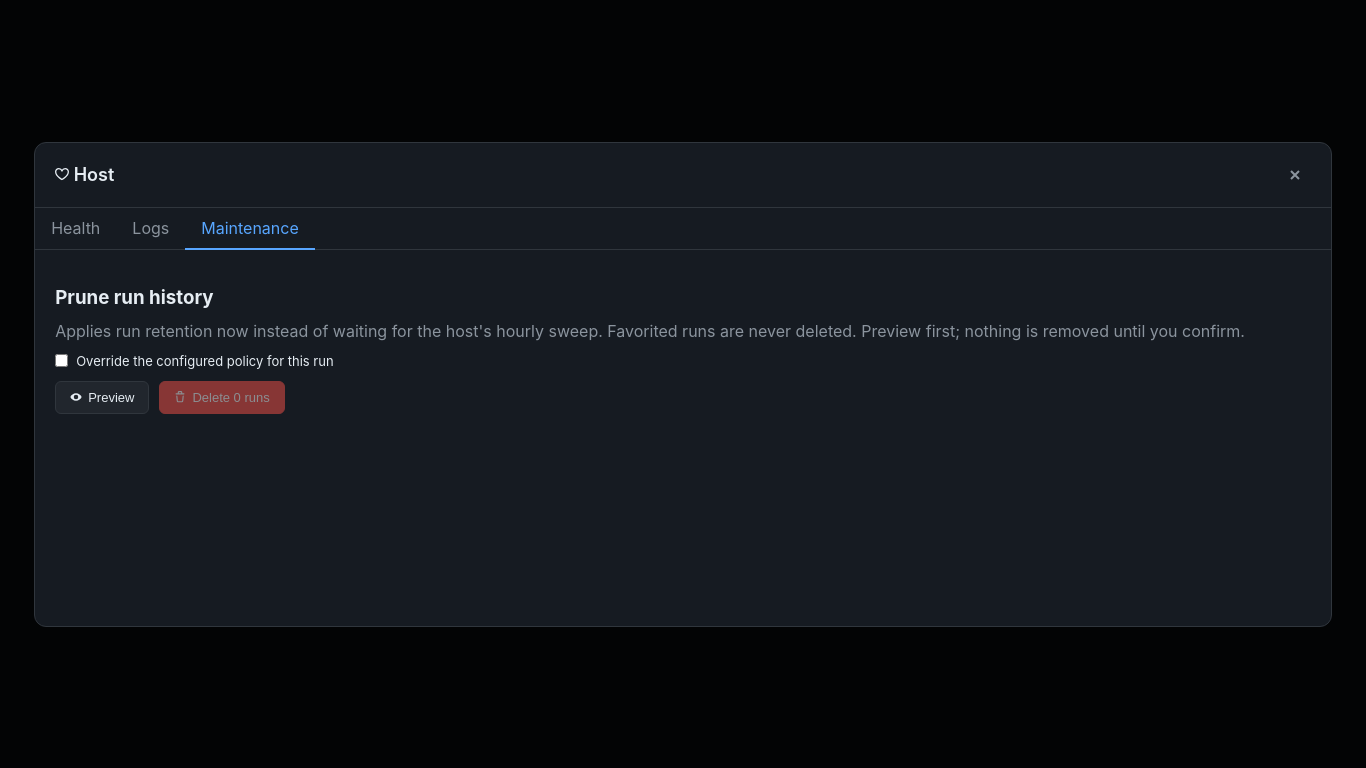
Test: HostModal › maintenance: overrides are sent when enabled and validated
Click the checkbox labelled "Override the configured policy for this run" at (62, 360), box [55,354,68,367]
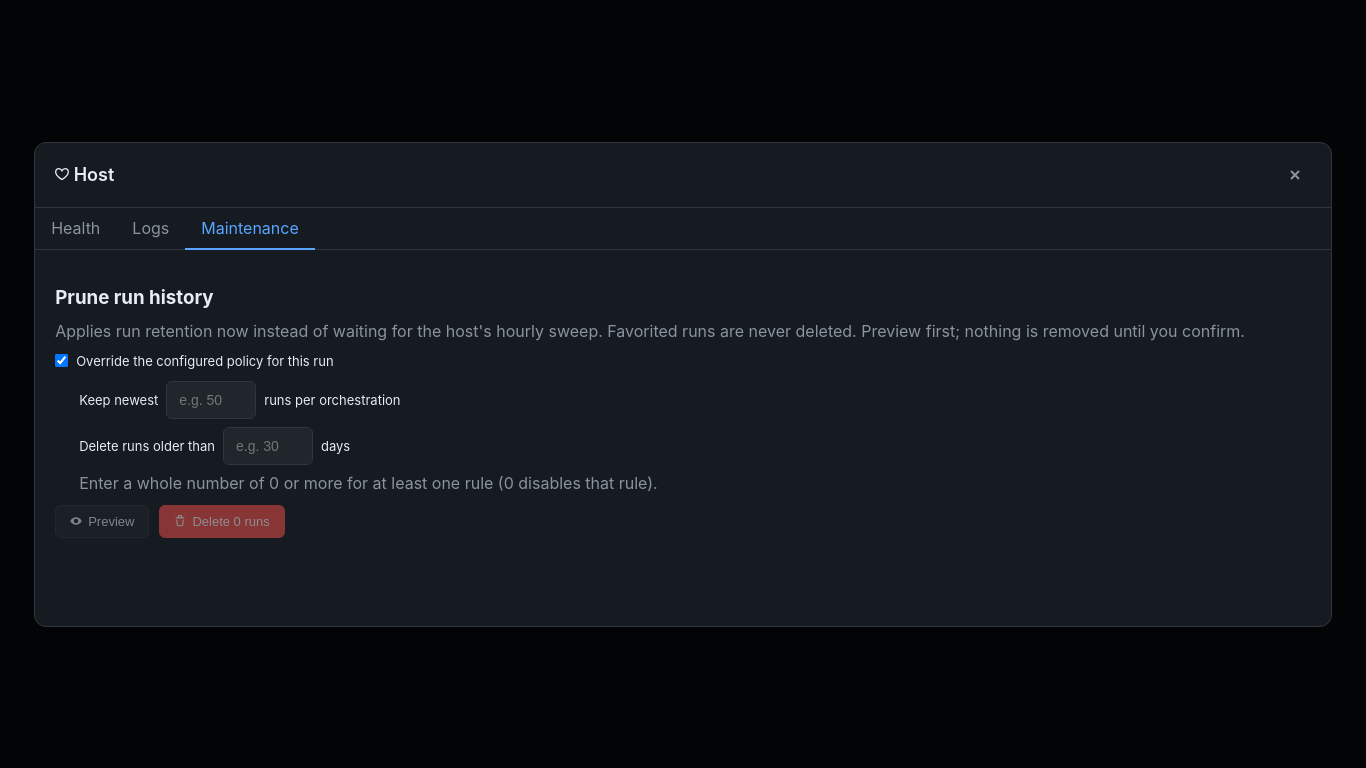
Expected: the button "Preview" is disabled, [55,504,150,538]
Type "5" into the number field named "Max runs per orchestration" at (211, 400), box [166,380,256,418]
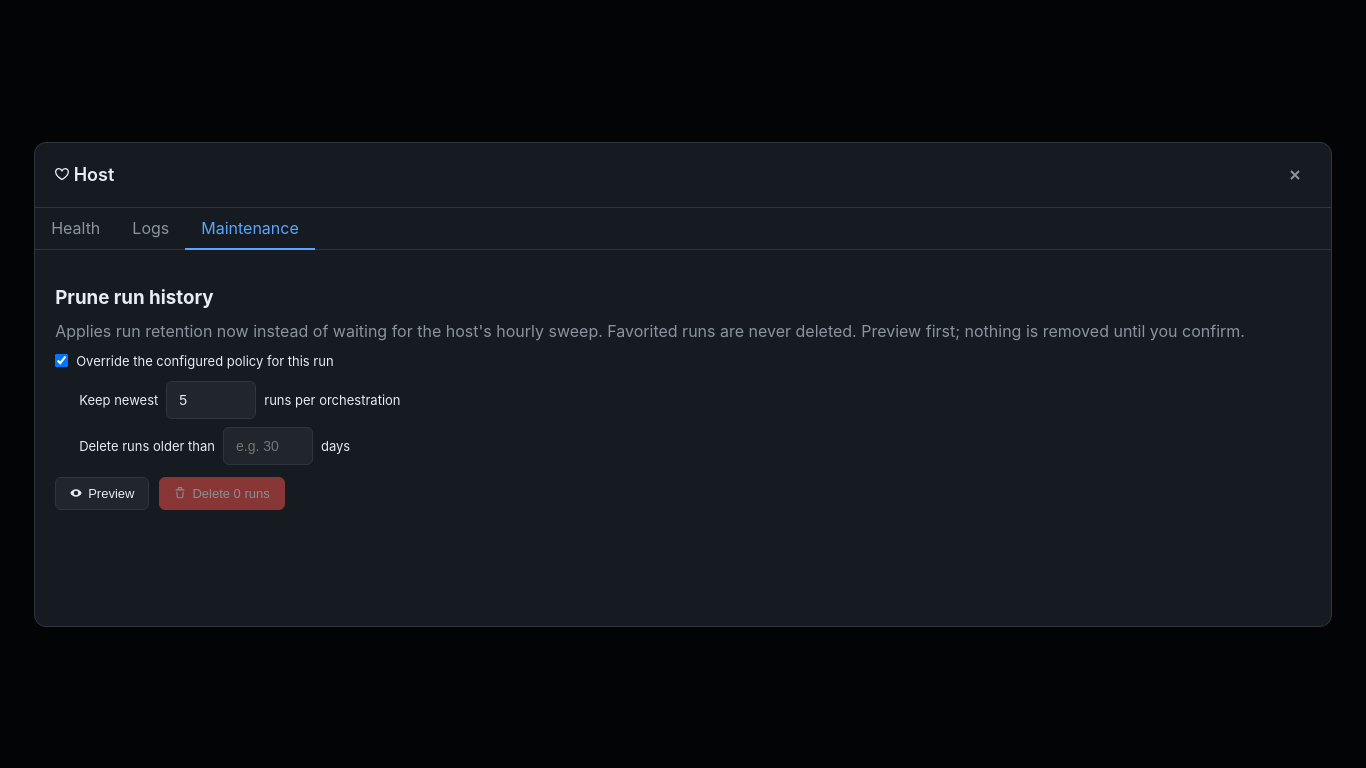
Expected: the button "Preview" is enabled
Click the button "Preview" at (102, 493), box [55,476,150,510]
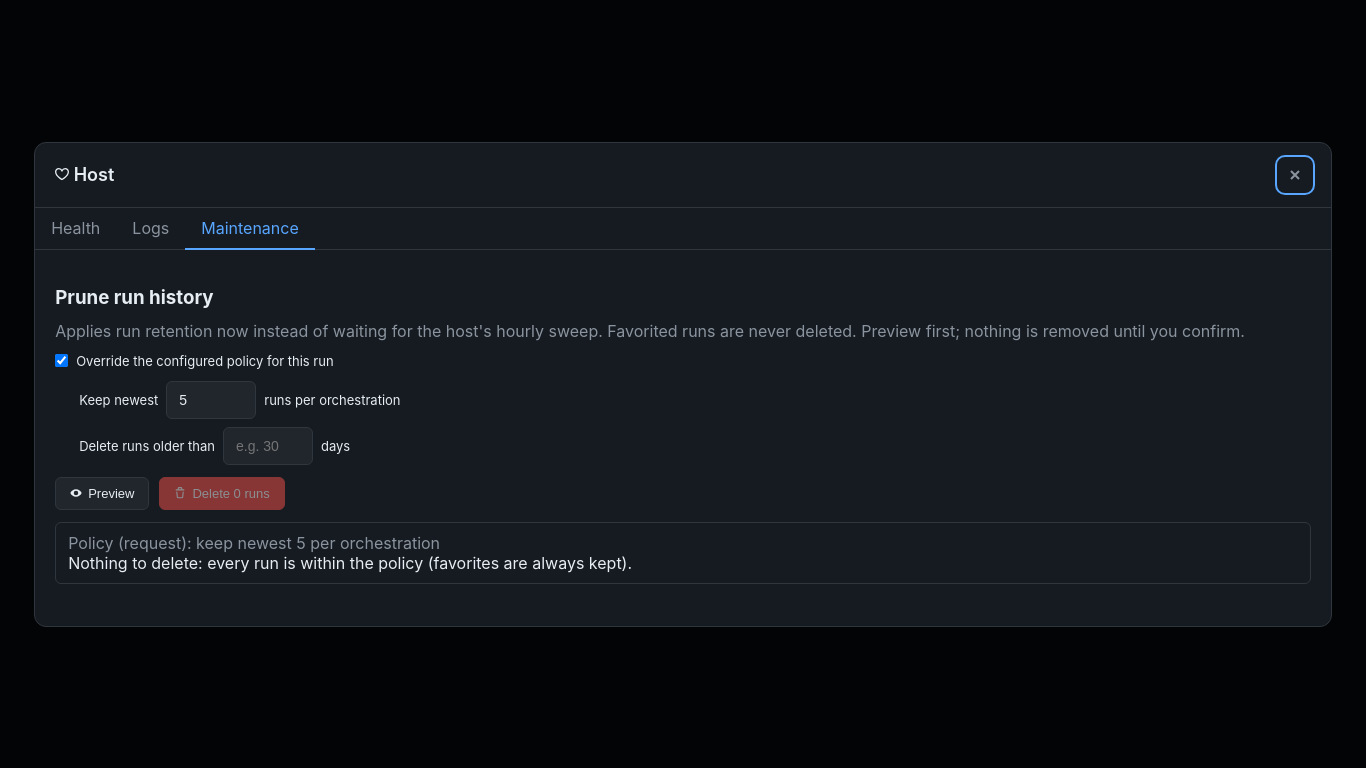
Expected: the button "Delete 0 runs" is disabled, [159,476,285,510]
Expected: the element with test id "prune-preview" is shown, [55,522,1311,584]
Expected: the element with test id "prune-preview" shows "Nothing to delete", [68,552,632,572]
